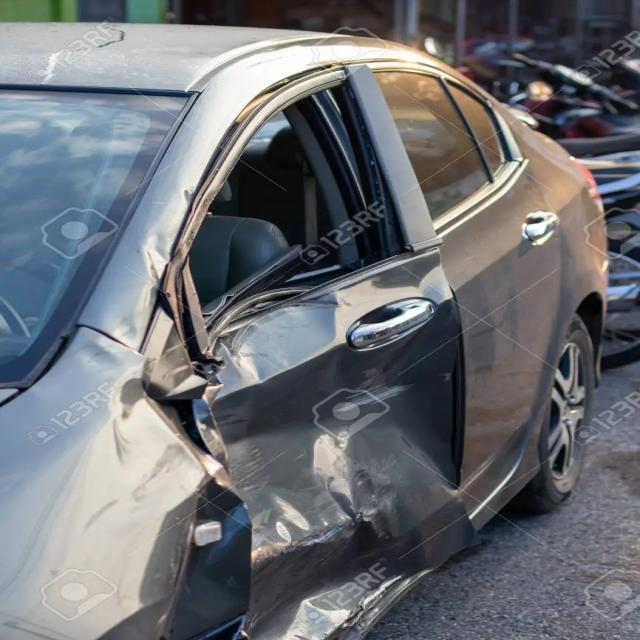crush: (60, 63, 479, 640)
